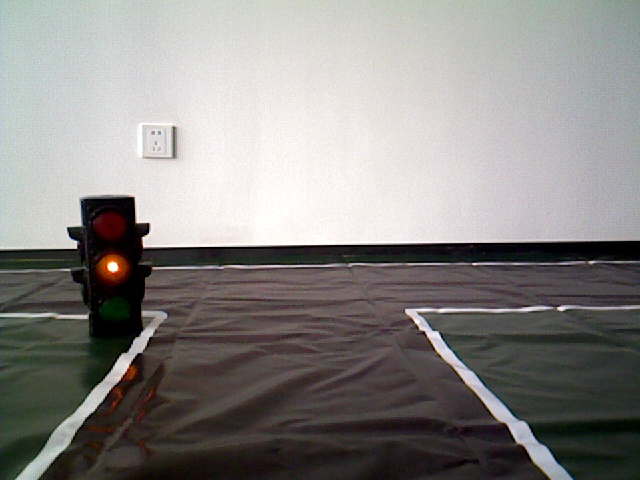yellow: (79, 192, 143, 334)
